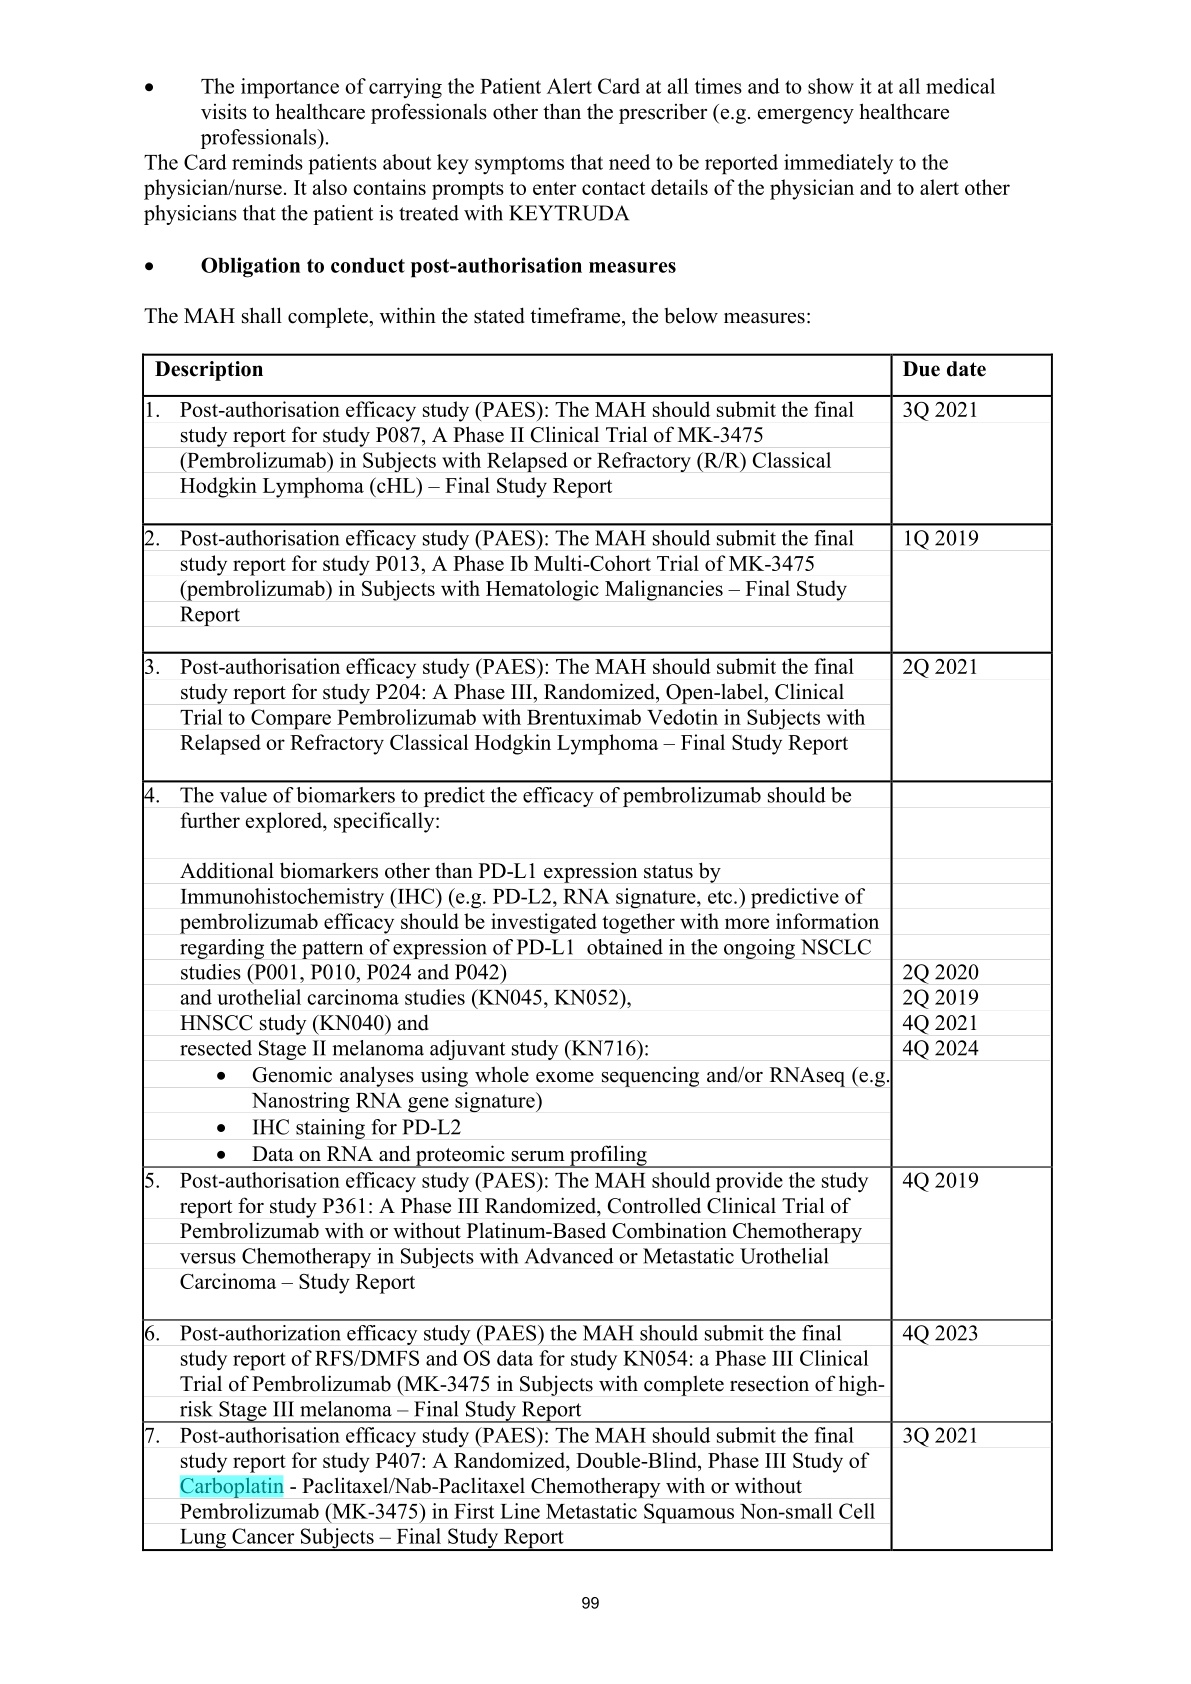full_lined: (140, 352, 1053, 1553)
